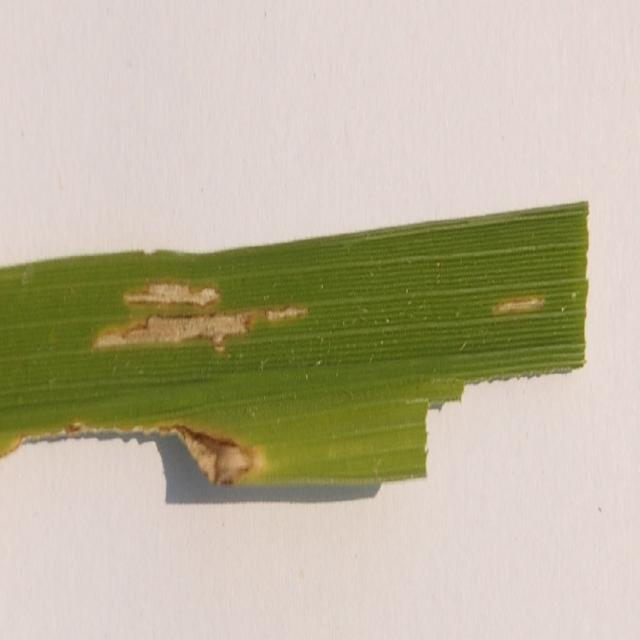leaf blight: (86, 271, 312, 354), (59, 410, 272, 498), (481, 271, 555, 328)
